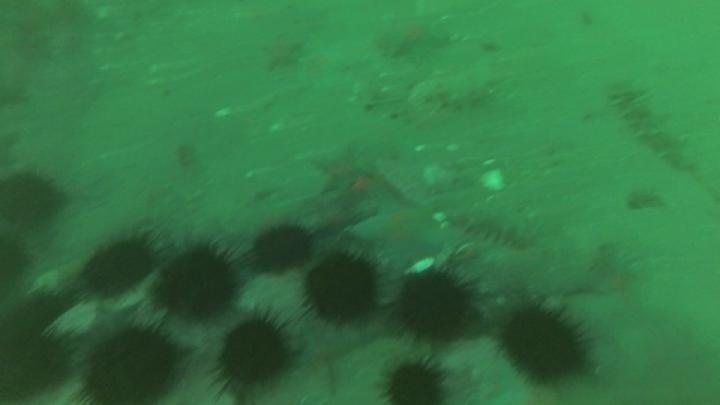echinus: (81, 325, 181, 404), (499, 304, 591, 384), (212, 316, 293, 394), (155, 246, 239, 321), (396, 268, 475, 343), (1, 323, 73, 402), (303, 253, 381, 325), (81, 234, 157, 298), (1, 167, 66, 228), (8, 291, 73, 344), (251, 223, 315, 274), (381, 358, 449, 404), (0, 232, 32, 289)
holothurian: (607, 79, 698, 174), (411, 59, 501, 116), (449, 201, 539, 251)
starfish: (350, 201, 446, 269), (311, 143, 377, 197), (377, 14, 451, 62), (589, 244, 642, 299), (259, 32, 308, 74), (313, 205, 359, 240), (343, 169, 381, 204)
